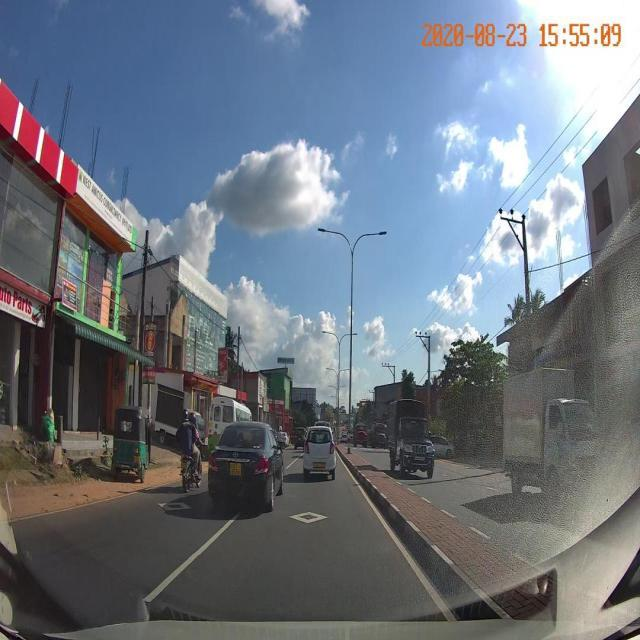Liniya 1: (339, 461, 463, 621), (139, 507, 245, 604), (285, 452, 301, 473)
Romb: (290, 510, 326, 523)
